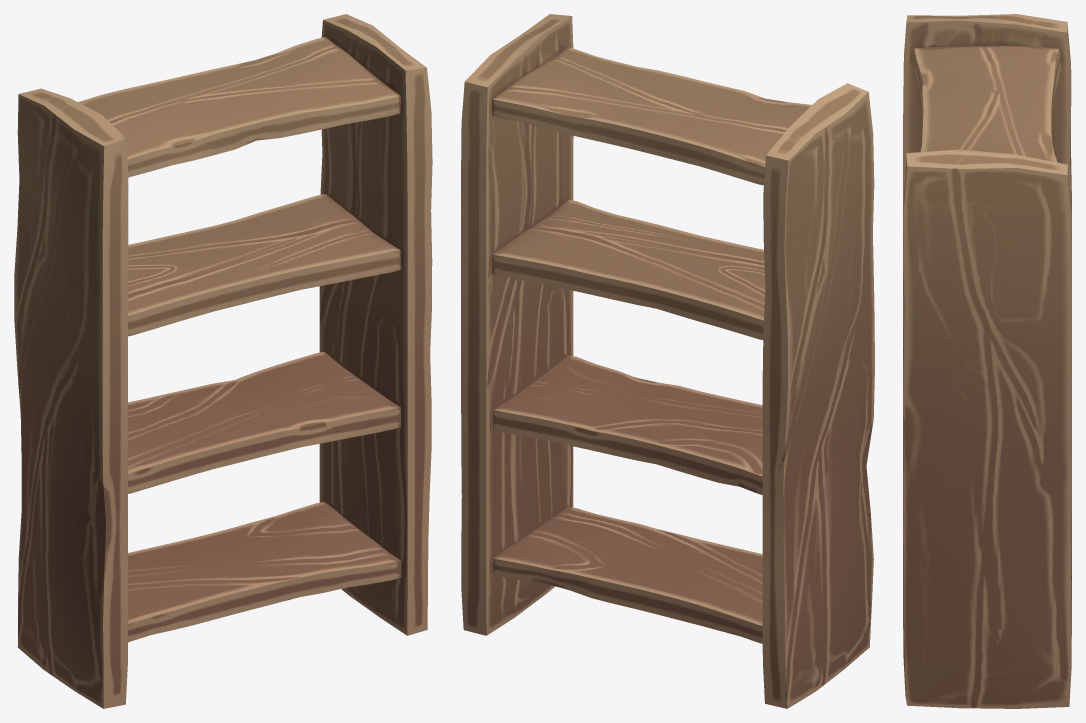
File: shelf_tall.fbx
3 renders of one model, left to right at view 1: azimuth 30°, elevation 25°; view 2: azimuth 150°, elevation 25°; view 3: azimuth 270°, elevation 25°, orthographic. The views are drawn at different scales.
Parts seen in each view (by area): view 1: shelf_tall; view 2: shelf_tall; view 3: shelf_tall.
Part boxes in pixels (left/top/right/bottom): shelf_tall: left=14, top=14, right=432, bottom=708; shelf_tall: left=461, top=14, right=874, bottom=708; shelf_tall: left=903, top=14, right=1071, bottom=708.
Size of the model in its own units: 127 by 203 by 56.74.
Materials: 1 (1 with a texture image).
